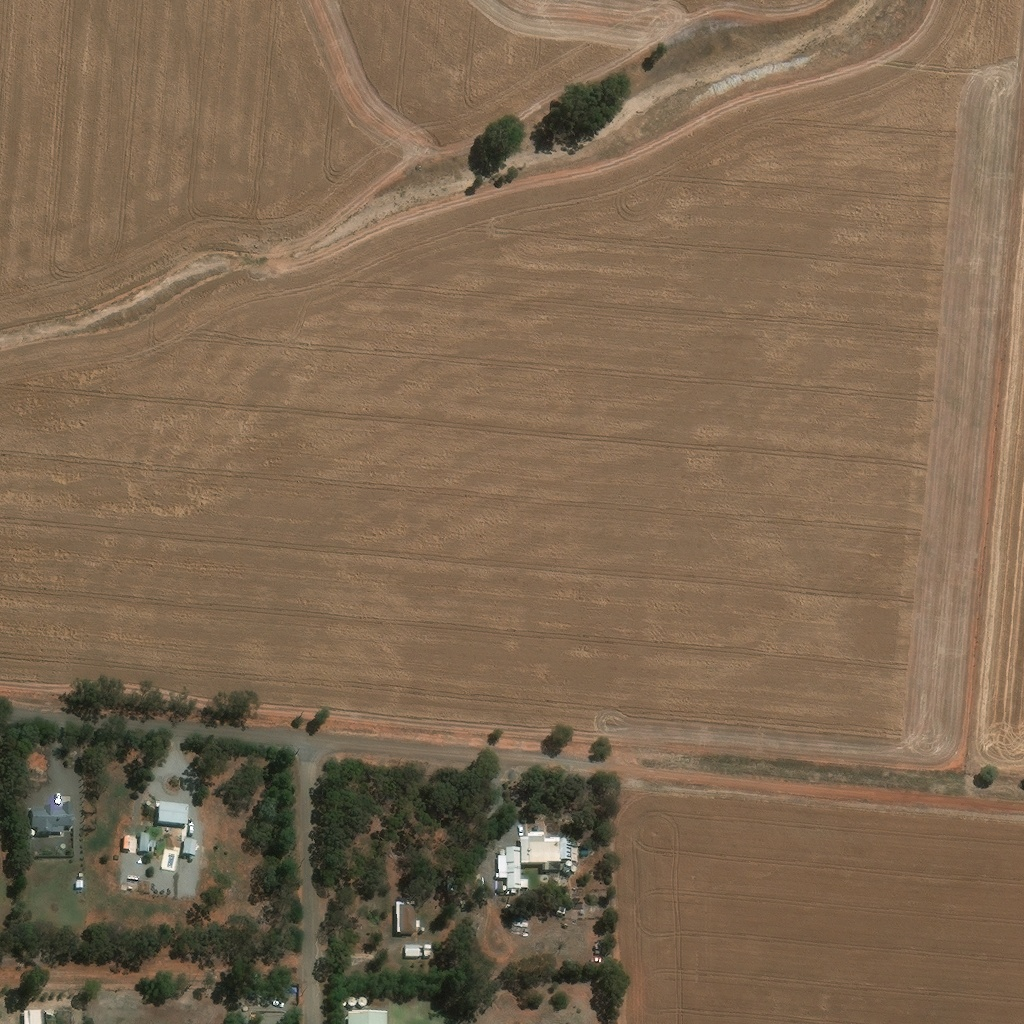0 no-damage: (520, 829, 578, 872), (31, 802, 74, 836), (495, 844, 521, 888), (395, 900, 422, 932), (156, 801, 191, 823), (345, 1009, 389, 1023), (21, 1008, 42, 1023), (182, 836, 198, 855), (405, 943, 424, 956), (138, 833, 150, 851), (128, 833, 136, 850), (556, 902, 566, 914), (425, 942, 433, 955), (75, 878, 84, 889), (561, 865, 570, 875), (359, 996, 368, 1006), (348, 996, 357, 1006), (569, 864, 578, 873), (521, 878, 529, 888), (27, 828, 35, 836), (46, 1008, 54, 1016), (151, 839, 156, 849), (500, 847, 507, 854), (566, 860, 573, 866), (340, 1000, 347, 1006), (77, 872, 84, 877)
4 un-classified: (160, 136, 172, 148)
